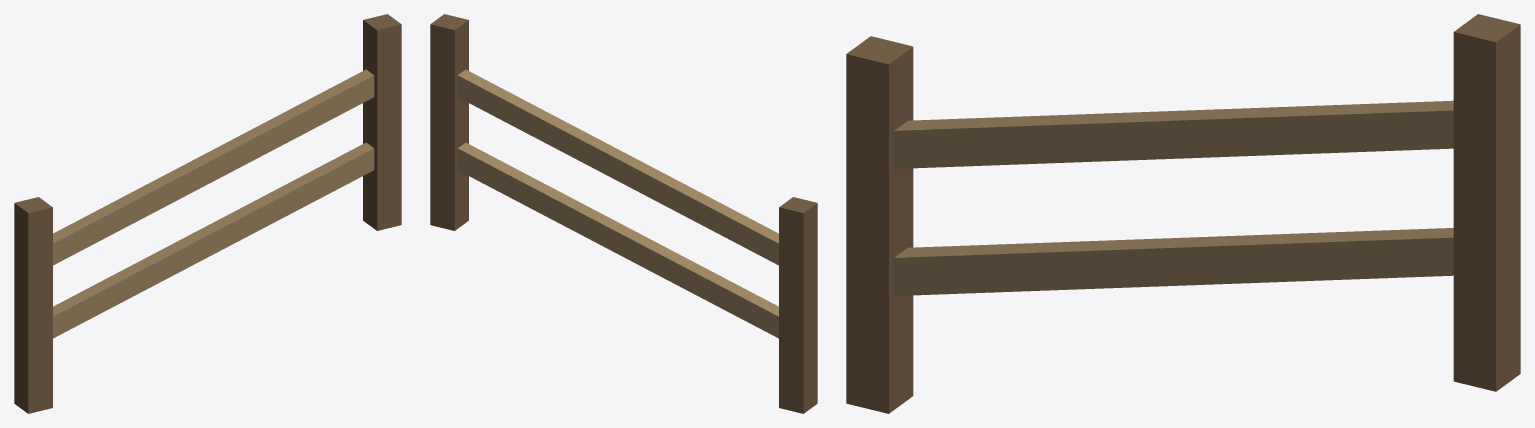
Rendered from TW_EXAMPLE_SLOPE_15_LOD0.glb.
3 renders of one model, left to right at view 1: azimuth 30°, elevation 25°; view 2: azimuth 150°, elevation 25°; view 3: azimuth 330°, elevation 25°, orthographic. The views are drawn at different scales.
Parts seen in each view (by area): view 1: TW_EXAMPLE_SLOPE_15_LOD0; view 2: TW_EXAMPLE_SLOPE_15_LOD0; view 3: TW_EXAMPLE_SLOPE_15_LOD0.
Boxes of the visible parts, bbox=[...] form: TW_EXAMPLE_SLOPE_15_LOD0: bbox=[14, 14, 401, 413]; TW_EXAMPLE_SLOPE_15_LOD0: bbox=[430, 14, 817, 413]; TW_EXAMPLE_SLOPE_15_LOD0: bbox=[846, 14, 1520, 413].
Size of the model in its own units: 2.14 by 1.64 by 0.14.
Materials: 1 (1 with a texture image).
